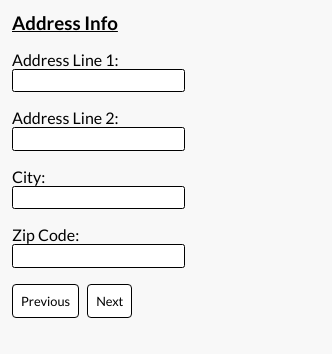
Test: step one validation › show zip code field validation for incorrect format
Type "not a zipcode" into the field labelled "Zip Code:". click: [99, 256]
box: [12,244,185,268]
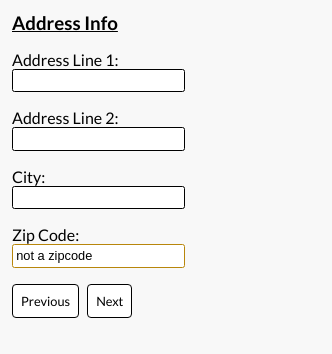
Leave the field labelled "Zip Code:", box [12,244,185,268]
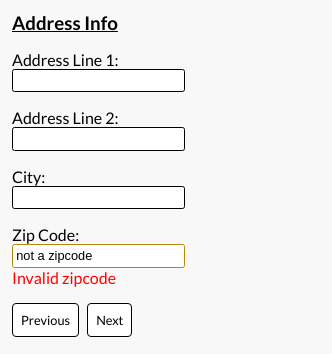
Result: the text "Invalid zipcode" is shown at [12,268,116,286]
